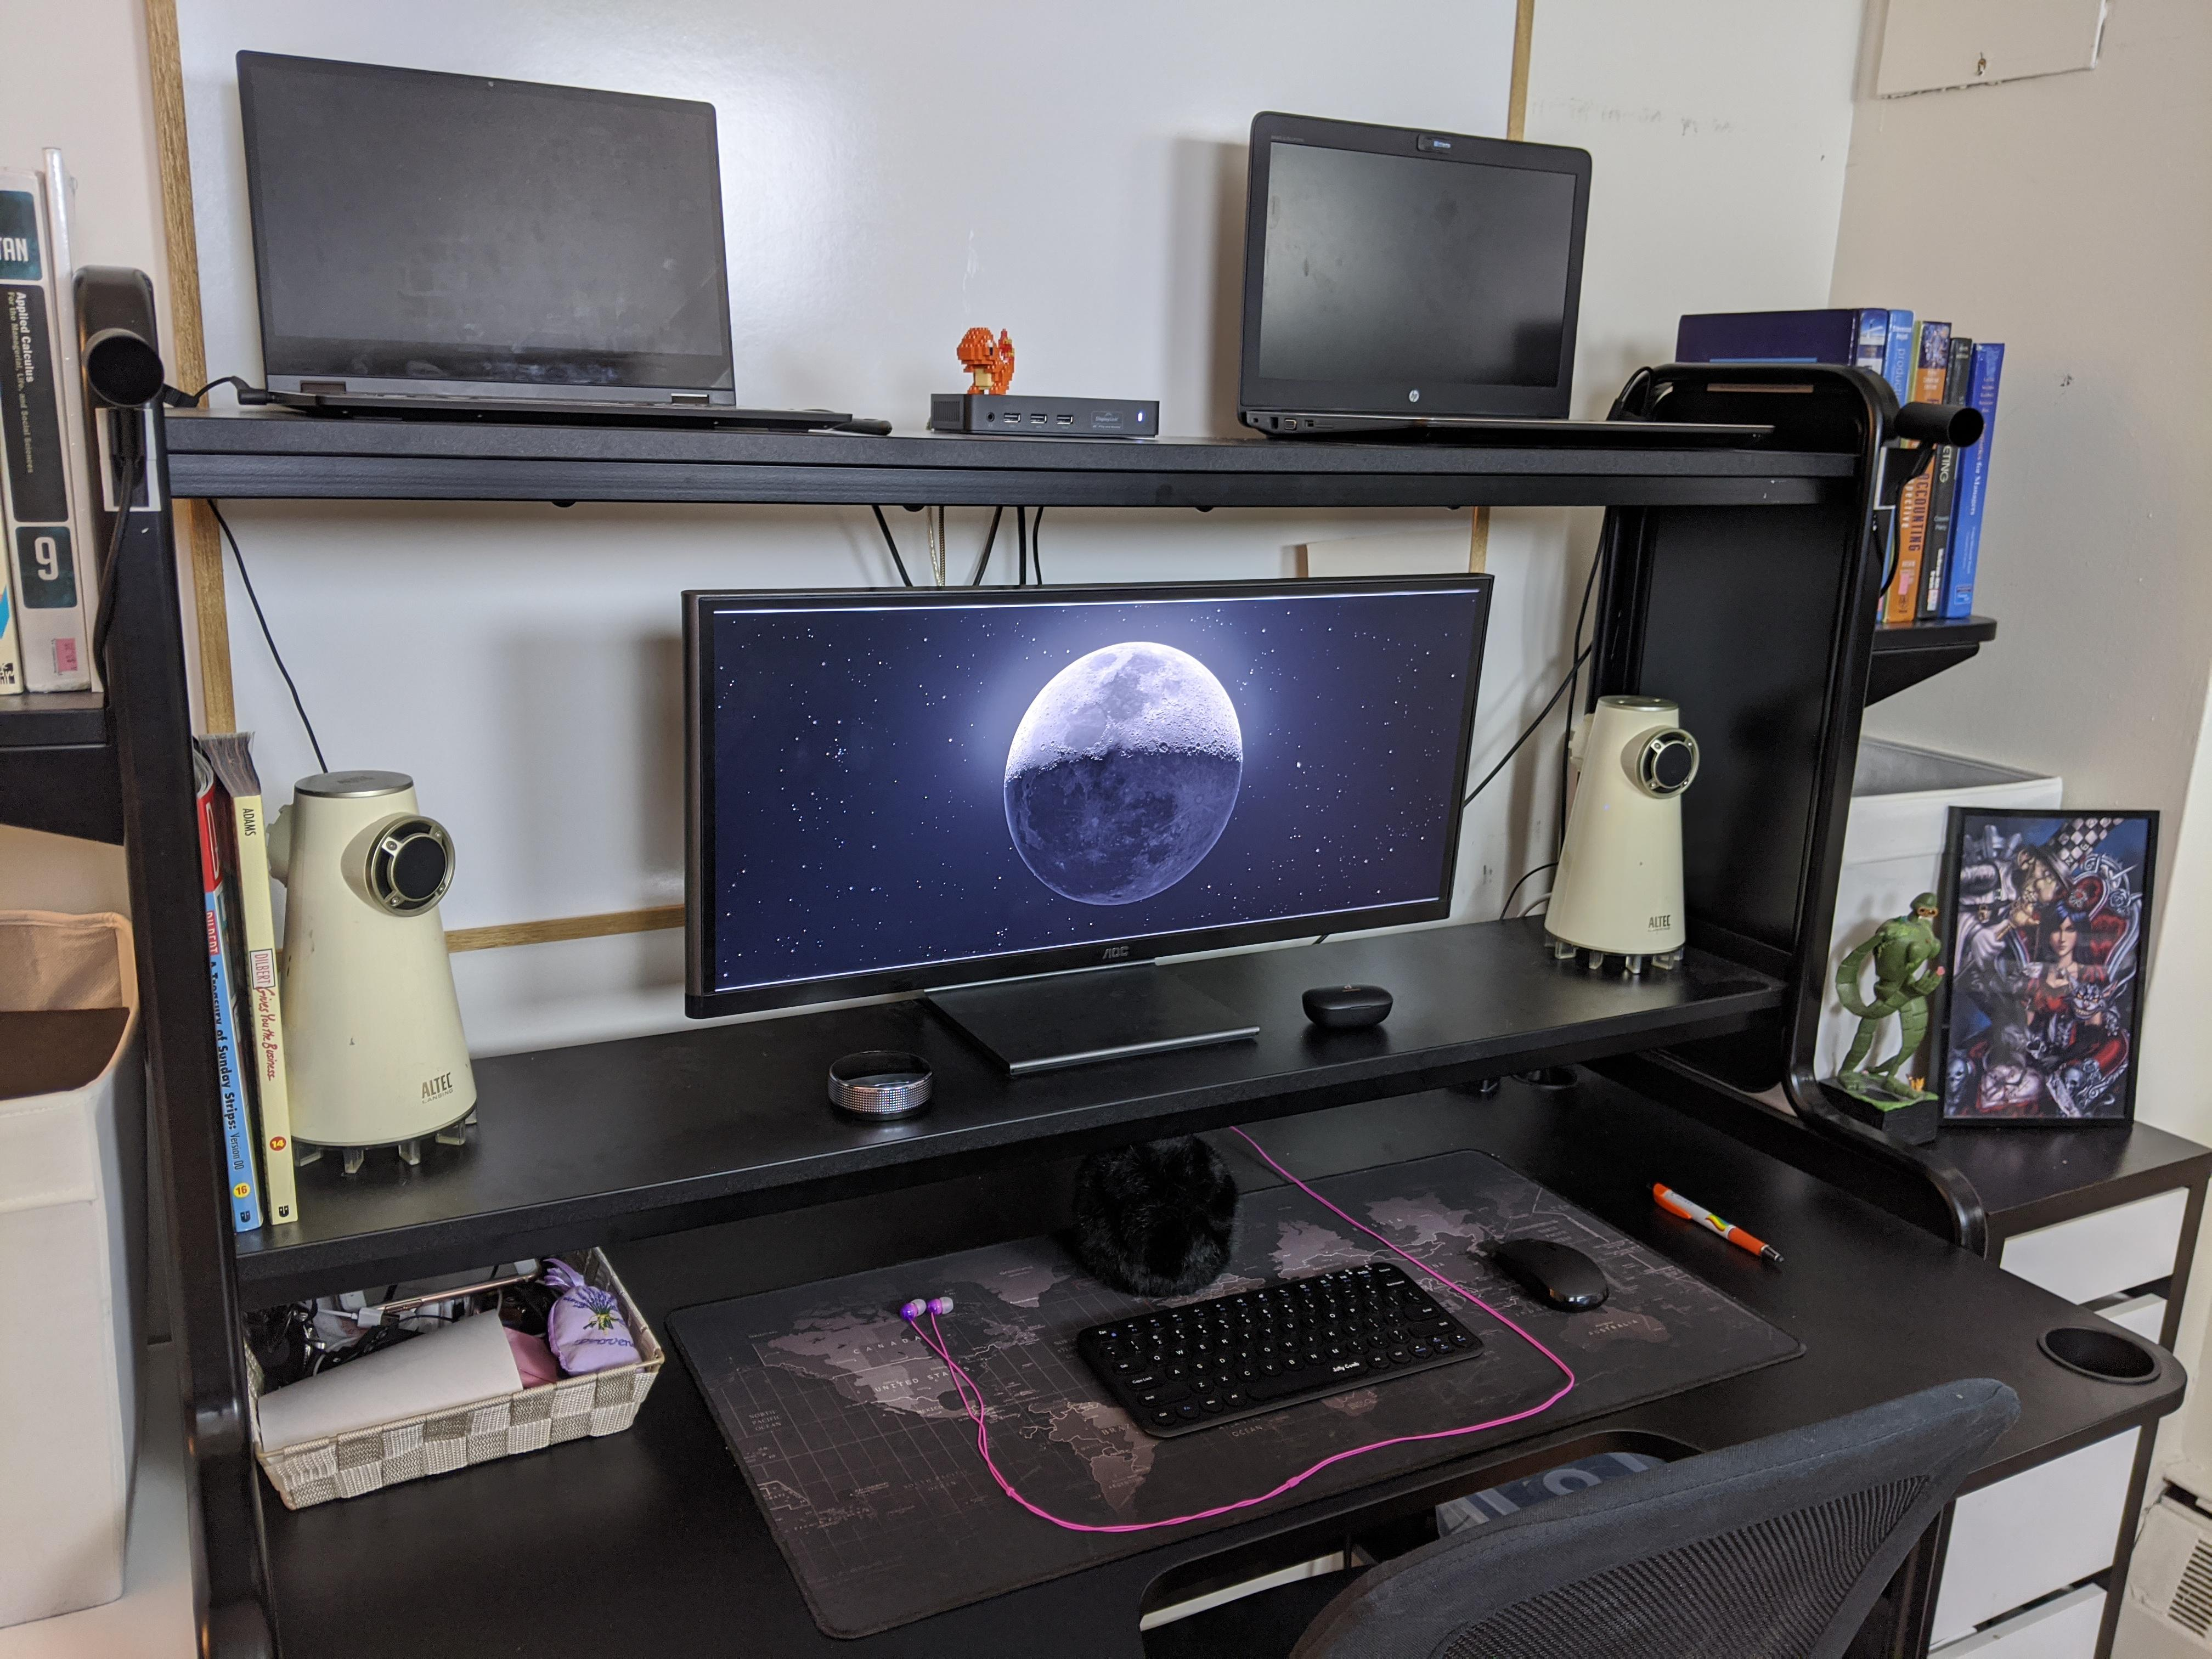Airpods (Generic): (1301, 981, 1395, 1030)
Book: (1676, 303, 1993, 634), (167, 730, 294, 1236)
Chair (Generic): (1278, 1382, 2033, 1659)
Decoration (Miniature): (1810, 880, 1951, 1164), (953, 319, 1021, 401)
Decoration (Picture): (1942, 805, 2155, 1138)
Desk (Generic): (66, 258, 2196, 1659)
External Speakers (Generic): (256, 751, 493, 1180), (1547, 683, 1695, 978)
Keyboard (Generic): (1071, 1256, 1487, 1445)
Laptop (Generic): (225, 37, 866, 443), (1224, 96, 1775, 451)
Monitor (Landscape): (676, 570, 1486, 1077)
Mouse (Generic): (1477, 1227, 1618, 1319)
Mousepad (Gaming): (665, 1152, 1803, 1659)
USB Hub: (920, 392, 1170, 444)
